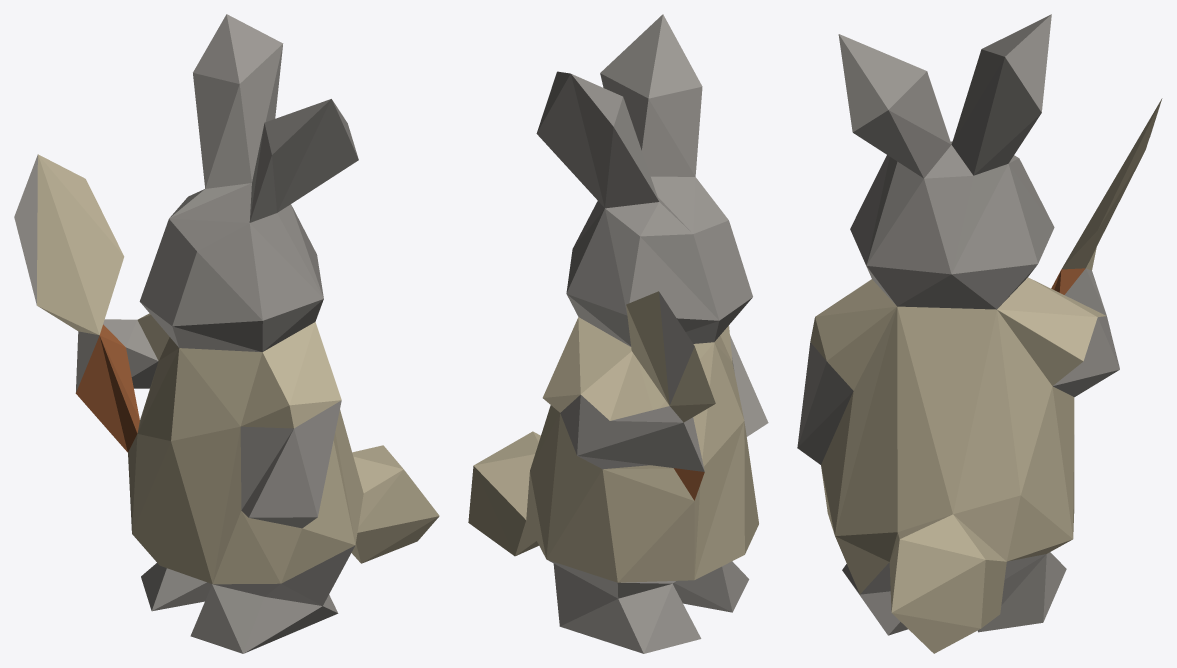
3 renders of one model, left to right at view 1: azimuth 30°, elevation 25°; view 2: azimuth 150°, elevation 25°; view 3: azimuth 270°, elevation 25°, orthographic. The views are drawn at different scales.
Visible parts, largest first — view 1: lion-200.001; view 2: lion-200.001; view 3: lion-200.001.
Part boxes in pixels (box(x1,y1,x2,y2)): lion-200.001: box(14, 14, 439, 653); lion-200.001: box(468, 14, 768, 653); lion-200.001: box(797, 14, 1162, 653).
Size of the model in its own units: 0.5991 by 1.03 by 0.5674.
